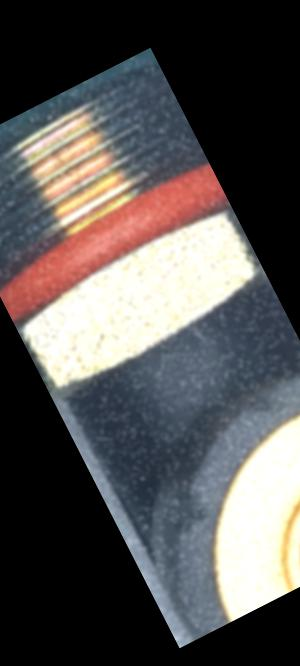bump: (163, 480, 218, 539), (237, 375, 296, 428)
joint line: (196, 352, 233, 402)
white mark: (182, 313, 221, 356)
